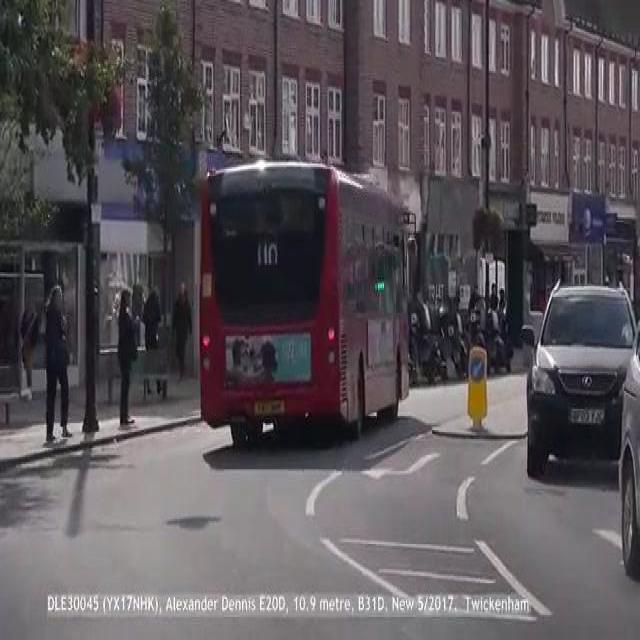motorcycle: (200, 156, 412, 446)
